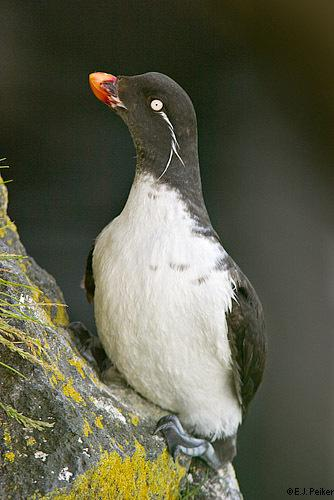007.Parakeet_Auklet: (73, 67, 269, 471)
